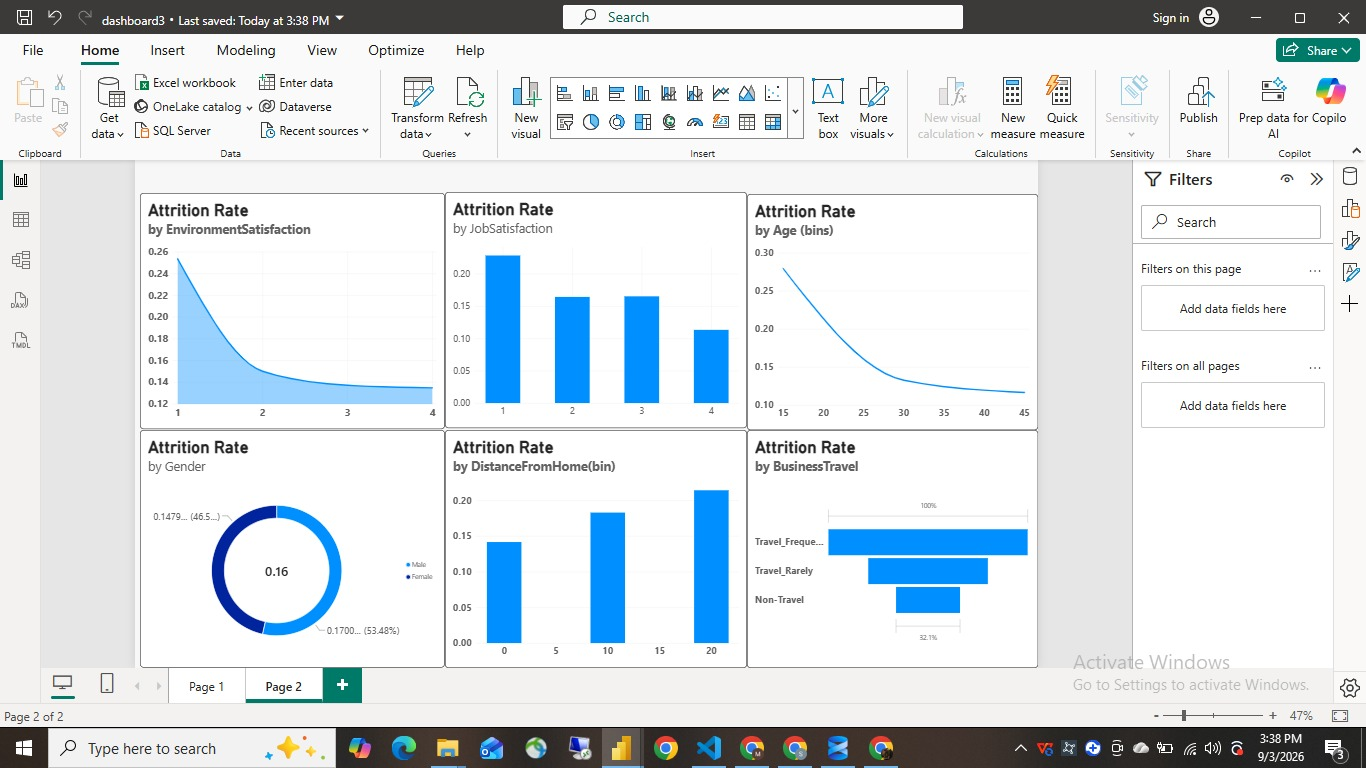

Layout of this report page (visuals, bound fields, positions):
{"tool":"powerbi","page":{"name":"Page 2","canvas":[1920,1080],"ordinal":1},"visuals":[{"type":"stackedAreaChart","fields":{"Category":["HR_Analytics.EnvironmentSatisfaction"],"Y":["HR_Analytics.Attrition Rate"]},"box":[10.5,71.1,648.4,501.7],"z":0},{"type":"lineChart","fields":{"Category":["HR_Analytics.Age (bins)"],"Y":["HR_Analytics.Attrition Rate"]},"box":[1301.1,72.3,618.7,501.7],"z":1000},{"type":"donutChart","fields":{"Category":["HR_Analytics.Gender"],"Y":["HR_Analytics.Attrition Rate"]},"box":[10.5,574.2,648.2,504.5],"z":2000},{"type":"columnChart","title":"Attrition Rate","fields":{"Category":["HR_Analytics.DistanceFromHome (bins) 2"],"Y":["HR_Analytics.Attrition Rate"]},"box":[658.4,574.2,642,506],"z":3000},{"type":"clusteredColumnChart","fields":{"Category":["HR_Analytics.JobSatisfaction"],"Y":["HR_Analytics.Attrition Rate"]},"box":[658.4,68.5,642,501.7],"z":4000},{"type":"funnel","fields":{"Category":["HR_Analytics.BusinessTravel"],"Y":["HR_Analytics.Attrition Rate"]},"box":[1301.1,574.2,618.7,506],"z":5000}]}

Visuals, with their boxes on the page's 1920x1080 design canvas (x1, y1, x2, y2). These are canvas units, not pixel positions in the 1366x768 screenshot, which may show the page scaled, cropped or inside an application window:
stackedAreaChart - HR_Analytics.EnvironmentSatisfaction x HR_Analytics.Attrition Rate: x1=10 y1=71 x2=659 y2=573
lineChart - HR_Analytics.Age (bins) x HR_Analytics.Attrition Rate: x1=1301 y1=72 x2=1920 y2=574
donutChart - HR_Analytics.Gender x HR_Analytics.Attrition Rate: x1=10 y1=574 x2=659 y2=1079
"Attrition Rate" columnChart: x1=658 y1=574 x2=1300 y2=1080
clusteredColumnChart - HR_Analytics.JobSatisfaction x HR_Analytics.Attrition Rate: x1=658 y1=68 x2=1300 y2=570
funnel - HR_Analytics.BusinessTravel x HR_Analytics.Attrition Rate: x1=1301 y1=574 x2=1920 y2=1080
